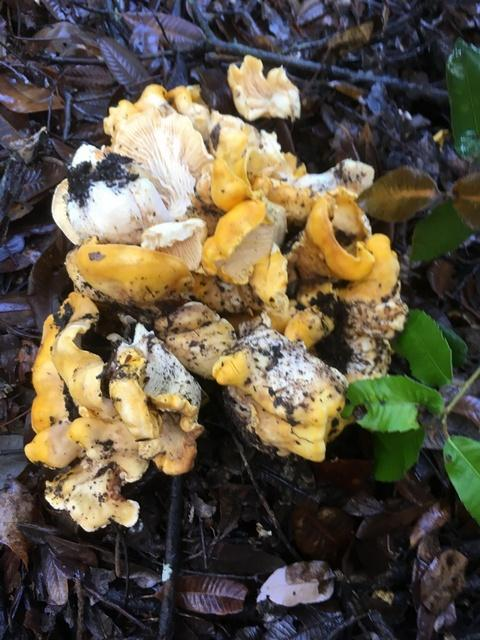Edible Mushroom: (23, 62, 410, 532)
